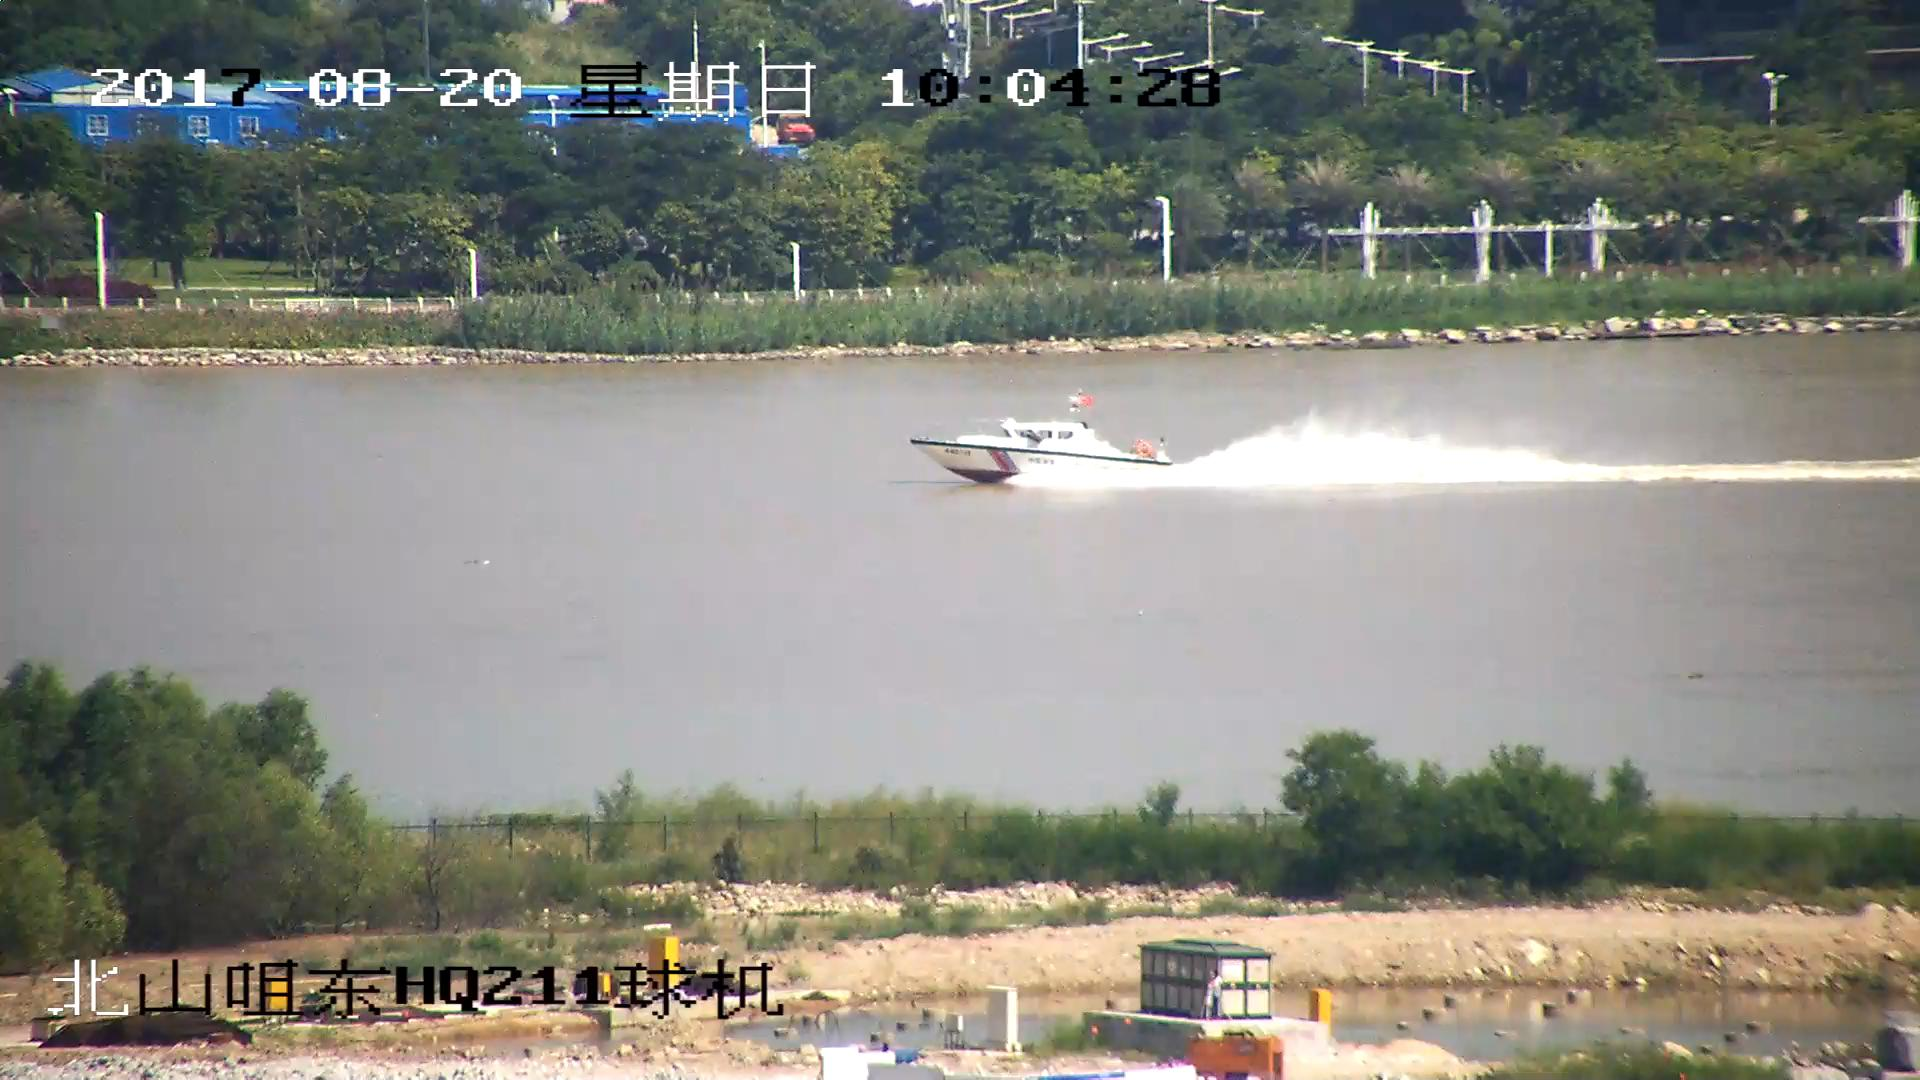passenger ship: (910, 400, 1172, 486)
